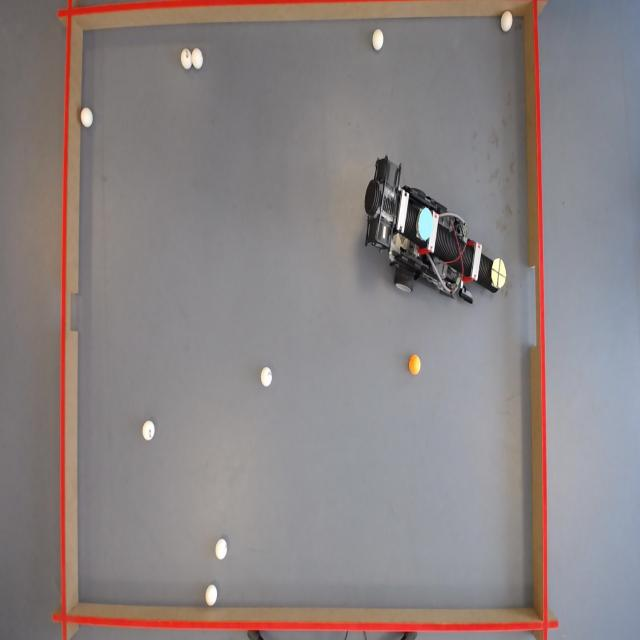orange: (407, 355, 422, 374)
robot: (360, 167, 515, 304)
robot-front: (491, 258, 507, 290)
robot-rear: (418, 207, 437, 243)
white: (205, 584, 219, 608), (214, 537, 228, 560), (372, 29, 386, 52), (500, 10, 513, 32), (80, 107, 93, 128), (181, 47, 193, 69), (142, 420, 155, 440), (190, 48, 203, 68), (262, 365, 274, 386)
